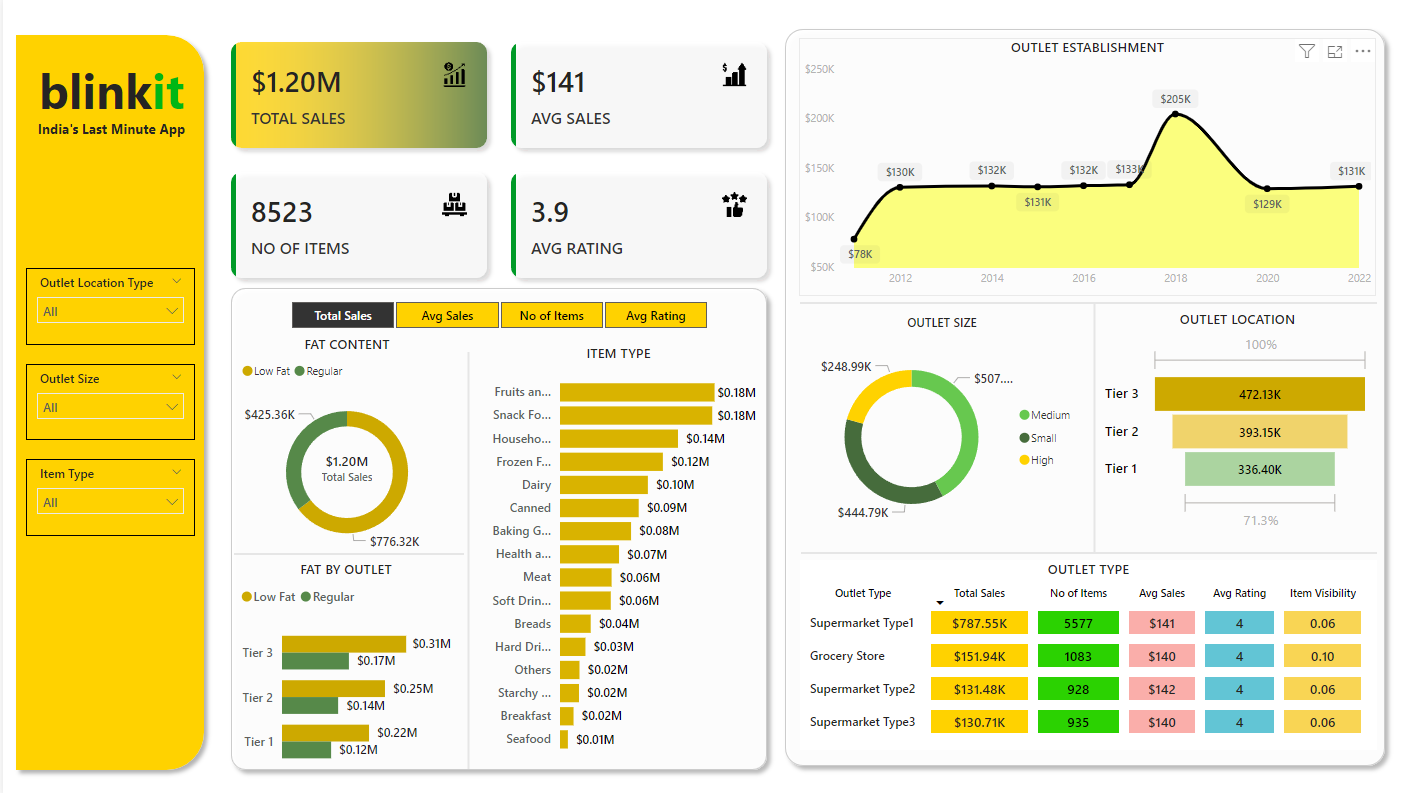

What the dashboard file says about the page in this screenshot:
{"tool":"powerbi","page":{"name":"Blinkit Insights","canvas":[1400,800],"ordinal":0},"visuals":[{"type":"shape","box":[4.4,28.9,205.6,753.3],"z":0},{"type":"textbox","box":[23.6,55.3,169,89],"z":1000},{"type":"textbox","box":[23.6,118.3,169,33],"z":2000},{"type":"cardVisual","fields":{"Data":["BlinkIT Grocery Data.Total Sales","BlinkIT Grocery Data.Avg Sales","BlinkIT Grocery Data.No of Items","BlinkIT Grocery Data.Avg Rating"]},"box":[210.6,28.3,570,270],"z":3000},{"type":"shape","box":[218.6,282.3,554,500],"z":4000},{"type":"donutChart","title":"FAT CONTENT","fields":{"Y":["BlinkIT Grocery Data.Total Sales"],"Category":["BlinkIT Grocery Data.Item Fat Content"]},"box":[233.6,338.3,220,230],"z":5000},{"type":"slicer","fields":{"Values":["Metrics.Metrics"]},"box":[262.6,298.3,465,40],"z":6000},{"type":"cardVisual","fields":{"Data":["BlinkIT Grocery Data.Total Sales"]},"box":[295.6,438.3,96,66],"z":7000},{"type":"clusteredBarChart","title":"FAT BY OUTLET","fields":{"Y":["BlinkIT Grocery Data.Total Sales"],"Category":["BlinkIT Grocery Data.Outlet Location Type"],"Series":["BlinkIT Grocery Data.Item Fat Content"]},"box":[233.3,555.6,220,230],"z":8000},{"type":"shape","box":[230.6,539.3,230,36],"z":9000},{"type":"shape","box":[444.6,355.3,41,417],"z":10000},{"type":"barChart","title":"ITEM TYPE","fields":{"Y":["BlinkIT Grocery Data.Total Sales"],"Category":["BlinkIT Grocery Data.Item Type"]},"box":[472.6,347.3,285,419],"z":11000},{"type":"shape","box":[773.3,23.3,617.8,754.4],"z":12000},{"type":"lineChart","title":"OUTLET ESTABLISHMENT","fields":{"Y":["BlinkIT Grocery Data.Total Sales"],"Category":["BlinkIT Grocery Data.Outlet Establishment Year"]},"box":[795.6,41.1,577.8,257.8],"z":13000},{"type":"shape","box":[796.7,298.9,577.8,14.4],"z":14000},{"type":"slicer","title":"OUTLET SIZE","fields":{"Values":["BlinkIT Grocery Data.Outlet Location Type"]},"box":[23.3,271.1,168.9,76.7],"z":15000},{"type":"shape","box":[1085.6,306.7,11.1,250],"z":16000},{"type":"funnel","title":"OUTLET LOCATION","fields":{"Y":["Sum(BlinkIT Grocery Data.Sales)"],"Category":["BlinkIT Grocery Data.Outlet Location Type"]},"box":[1096.7,313.3,275.6,225.6],"z":17000},{"type":"shape","box":[797.8,548.9,576.7,14.4],"z":18000},{"type":"pivotTable","title":"OUTLET TYPE","fields":{"Rows":["BlinkIT Grocery Data.Outlet Type"],"Values":["BlinkIT Grocery Data.Total Sales","BlinkIT Grocery Data.No of Items","BlinkIT Grocery Data.Avg Sales","BlinkIT Grocery Data.Avg Rating","Avg(BlinkIT Grocery Data.Item Visibility)"]},"box":[796.7,563.3,577.8,190],"z":19000},{"type":"slicer","title":"OUTLET SIZE","fields":{"Values":["BlinkIT Grocery Data.Outlet Size"]},"box":[23.3,366.7,168.9,76.7],"z":20000},{"type":"slicer","title":"OUTLET SIZE","fields":{"Values":["BlinkIT Grocery Data.Item Type"]},"box":[23.3,462.2,168.9,76.7],"z":21000},{"type":"donutChart","title":"OUTLET SIZE","fields":{"Y":["BlinkIT Grocery Data.Total Sales"],"Category":["BlinkIT Grocery Data.Outlet Size"]},"box":[795.6,316.7,286.7,230],"z":22000}]}

Visuals, with their boxes in screenshot pixels (x1, y1, x2, y2), scaled from the page's 1400x800 canvas onto the 1403x793 screenshot:
shape: <box>4,29,210,775</box>
textbox: <box>24,55,193,143</box>
textbox: <box>24,117,193,150</box>
cardVisual - BlinkIT Grocery Data.Total Sales x BlinkIT Grocery Data.Avg Sales: <box>211,28,782,296</box>
shape: <box>219,280,774,775</box>
"FAT CONTENT" donutChart: <box>234,335,455,563</box>
slicer - Metrics.Metrics: <box>263,296,729,335</box>
cardVisual - BlinkIT Grocery Data.Total Sales: <box>296,434,392,500</box>
"FAT BY OUTLET" clusteredBarChart: <box>234,551,454,779</box>
shape: <box>231,535,462,570</box>
shape: <box>446,352,487,766</box>
"ITEM TYPE" barChart: <box>474,344,759,760</box>
shape: <box>775,23,1394,771</box>
"OUTLET ESTABLISHMENT" lineChart: <box>797,41,1376,296</box>
shape: <box>798,296,1377,311</box>
"OUTLET SIZE" slicer: <box>23,269,193,345</box>
shape: <box>1088,304,1099,552</box>
"OUTLET LOCATION" funnel: <box>1099,311,1375,534</box>
shape: <box>800,544,1377,558</box>
"OUTLET TYPE" pivotTable: <box>798,558,1377,747</box>
"OUTLET SIZE" slicer: <box>23,363,193,440</box>
"OUTLET SIZE" slicer: <box>23,458,193,534</box>
"OUTLET SIZE" donutChart: <box>797,314,1085,542</box>
